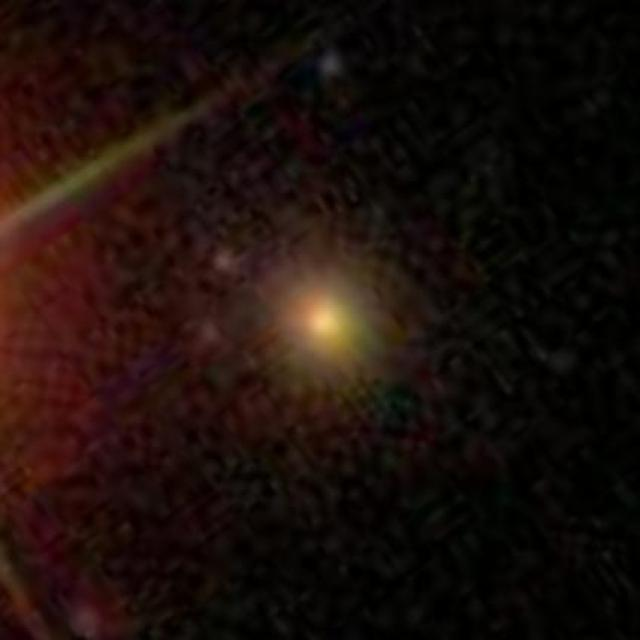galaxy: (236, 237, 414, 402), (194, 317, 233, 354), (212, 247, 244, 277), (322, 51, 346, 85)
star: (1, 38, 293, 640)
